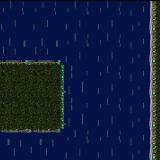Interaction: (140, 0, 160, 160)
Slow: (0, 0, 148, 58), (65, 57, 148, 133), (0, 133, 148, 160)
